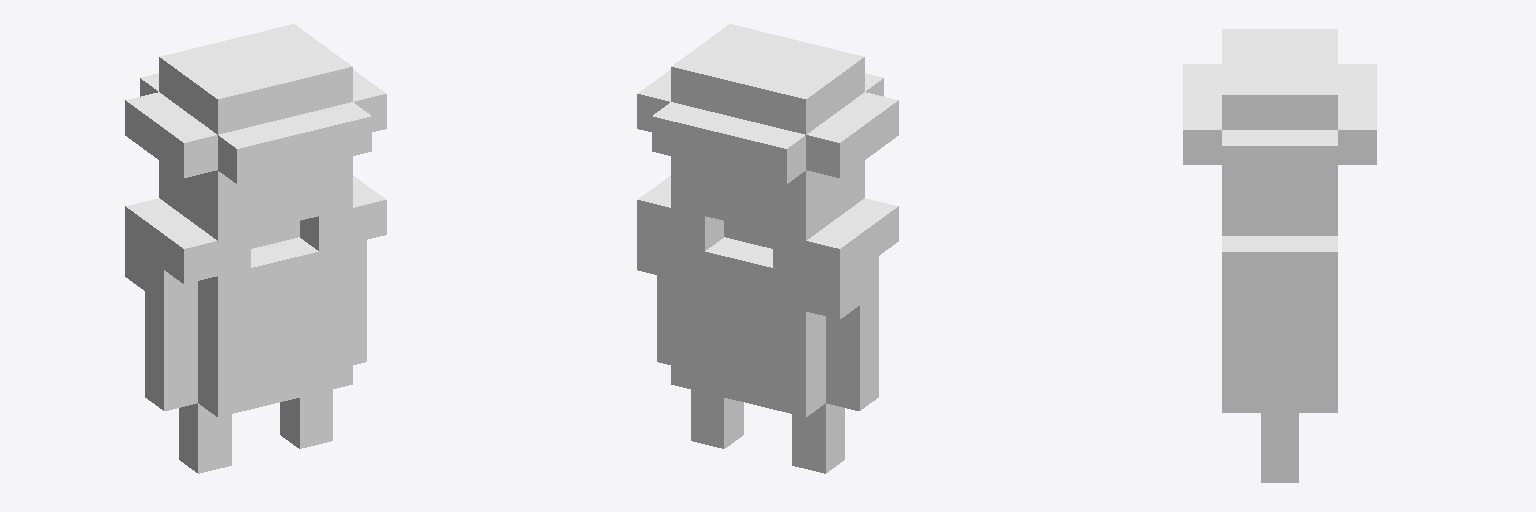
The model's file is SL_GenericPerson.obj.
3 renders of one model, left to right at view 1: azimuth 30°, elevation 25°; view 2: azimuth 150°, elevation 25°; view 3: azimuth 270°, elevation 25°, orthographic.
Size of the model in its own units: 6 by 11 by 5.